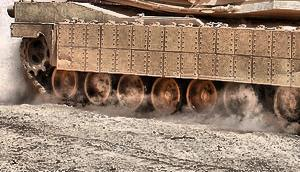tanks: (10, 1, 300, 128)
